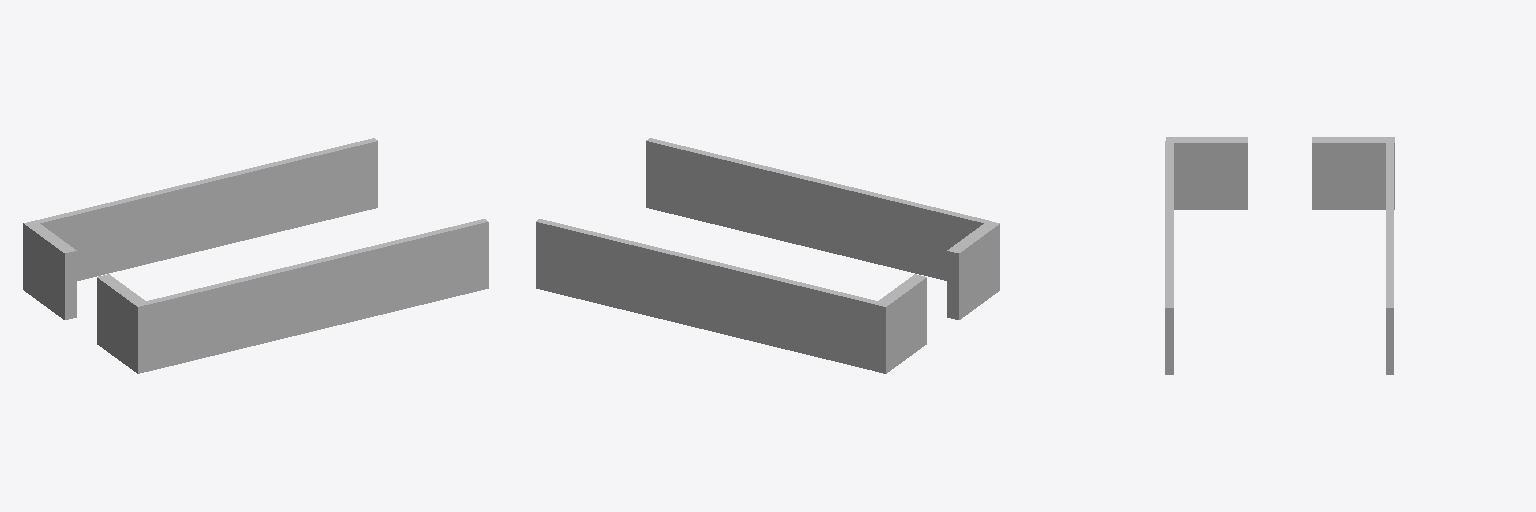
File: TutorialWalls.obj
The picture shows the model from 3 angles: view 1: azimuth 30°, elevation 25°; view 2: azimuth 150°, elevation 25°; view 3: azimuth 270°, elevation 25°; orthographic projection.
Parts seen in each view (by area): view 1: TutorialWalls:Walls_Mesh TutorialWalls:initialShadingGroup Tutor; view 2: TutorialWalls:Walls_Mesh TutorialWalls:initialShadingGroup Tutor; view 3: TutorialWalls:Walls_Mesh TutorialWalls:initialShadingGroup Tutor.
Boxes of the visible parts, x1,y1,x2,y2 form: TutorialWalls:Walls_Mesh TutorialWalls:initialShadingGroup Tutor: [23, 138, 488, 373]; TutorialWalls:Walls_Mesh TutorialWalls:initialShadingGroup Tutor: [536, 138, 999, 373]; TutorialWalls:Walls_Mesh TutorialWalls:initialShadingGroup Tutor: [1165, 137, 1394, 374].
Size of the model in its own units: 16.45 by 3 by 9.31.